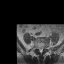CCS_normal: (40, 46, 41, 55)
LFS_severe_stenosis: (43, 45, 44, 50)
LLS_normal: (41, 46, 43, 53)
RFS_stenosis: (37, 45, 38, 50)
RLS_normal: (38, 46, 40, 53)
